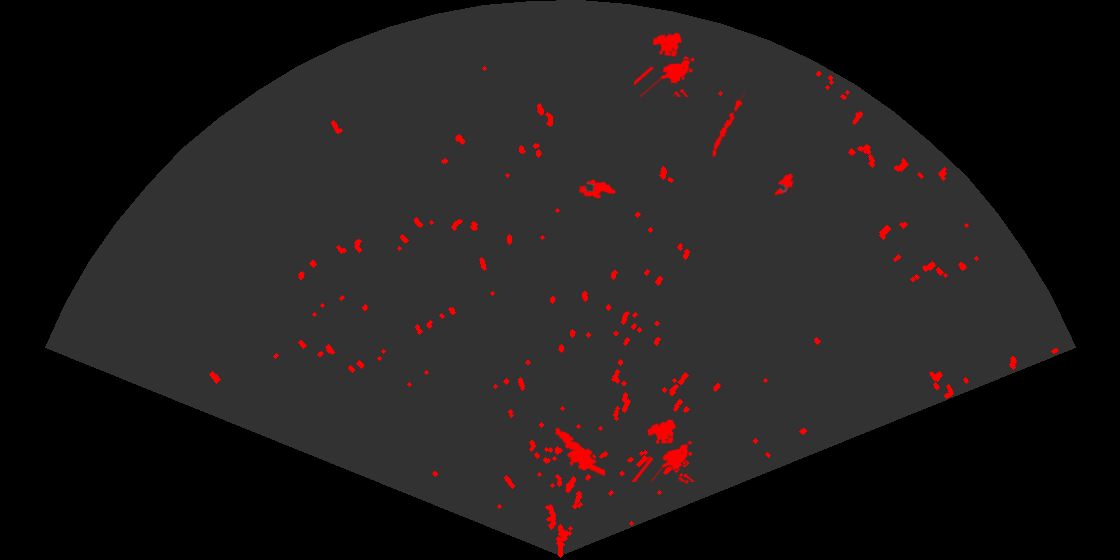AUV: (577, 178, 618, 200), (773, 172, 798, 200)
cage: (630, 418, 697, 482), (634, 31, 696, 97)
chain: (710, 92, 748, 159)
frogman: (553, 426, 605, 478)
